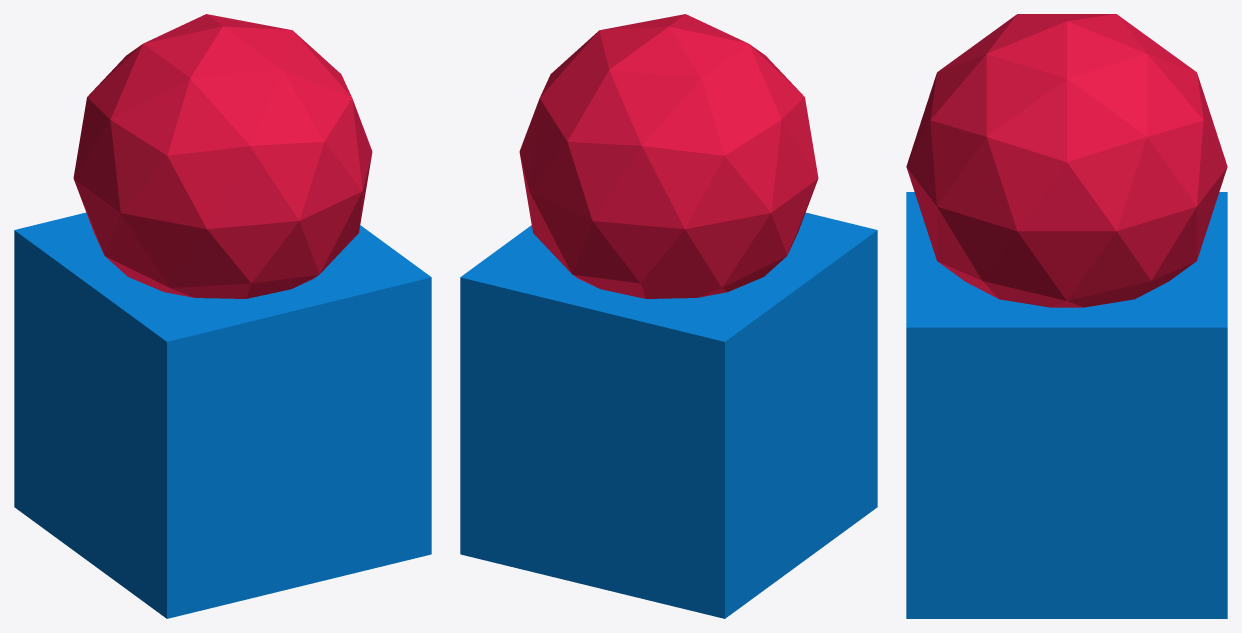
3 views of the same model, side by side, from view 1: azimuth 30°, elevation 25°; view 2: azimuth 150°, elevation 25°; view 3: azimuth 270°, elevation 25° (orthographic). The views are drawn at different scales.
Parts seen in each view (by area): view 1: Cube, Icosphere; view 2: Cube, Icosphere; view 3: Cube, Icosphere.
Boxes of the visible parts, x1,y1,x2,y2 form: Cube: (14, 212, 431, 618); Icosphere: (73, 14, 372, 298); Cube: (460, 212, 877, 618); Icosphere: (519, 14, 818, 298); Cube: (906, 192, 1227, 618); Icosphere: (906, 14, 1227, 307).
Size of the model in its own units: 2 by 3.64 by 2.
